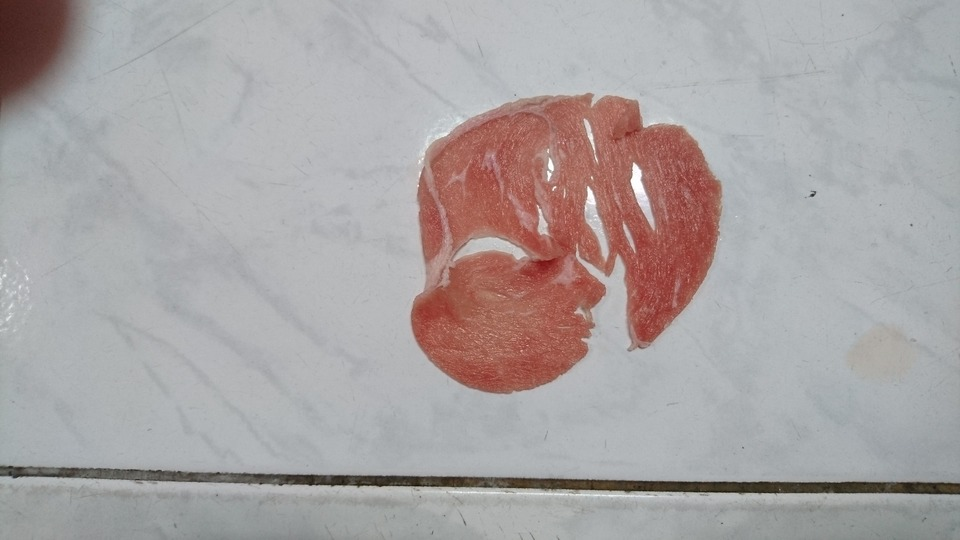restructured meat: (403, 91, 727, 394)
